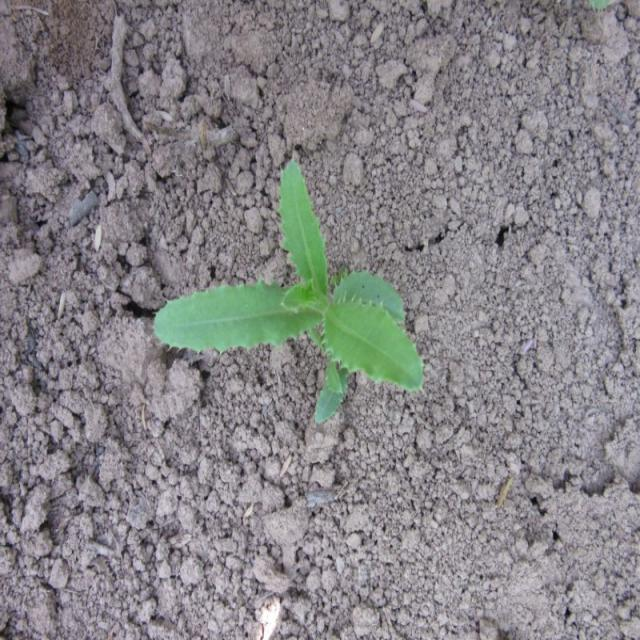cs: (150, 153, 430, 432)
